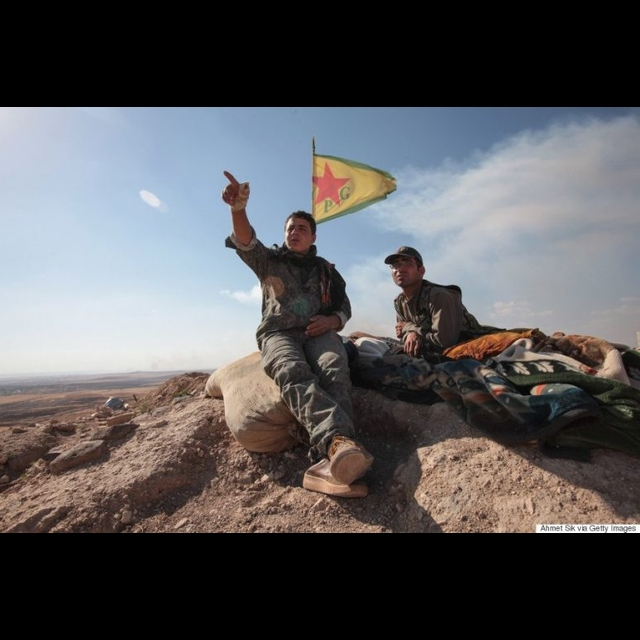YPG: (307, 159, 353, 216)
